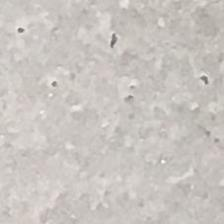Non_Crack: (26, 32, 197, 196)
